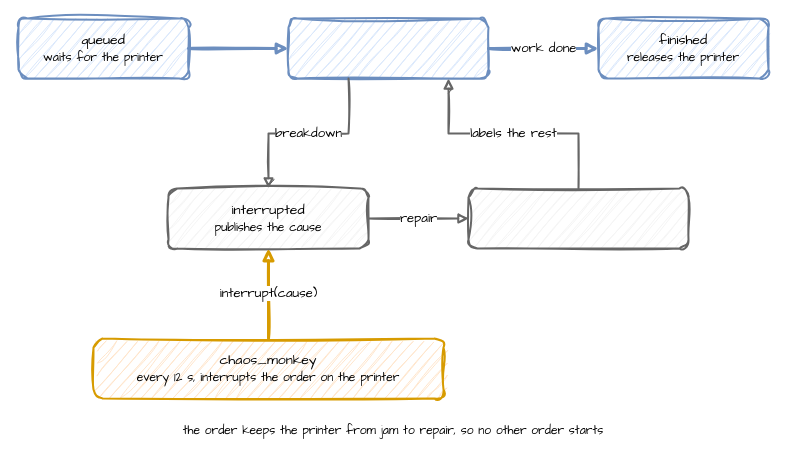
Image size: 786x459. Some labels were removed from this diagram. Here are the shapes that lost their labels. From the top down, the centre of each, then its label:
the point at 388,48: started labelling, 5 s in total
the point at 578,218: printer_repaired after 10 s on the printer
